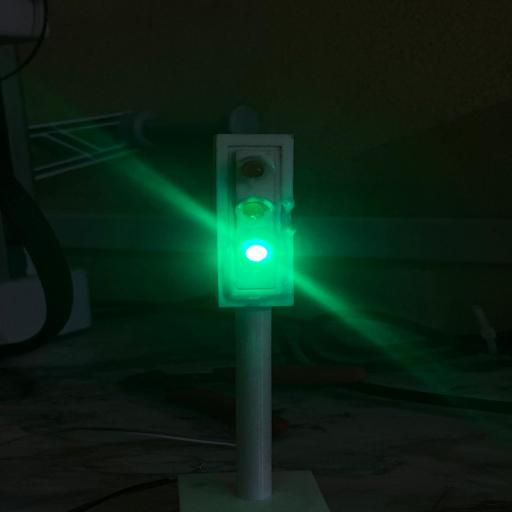Green Light: (246, 245, 268, 261)
